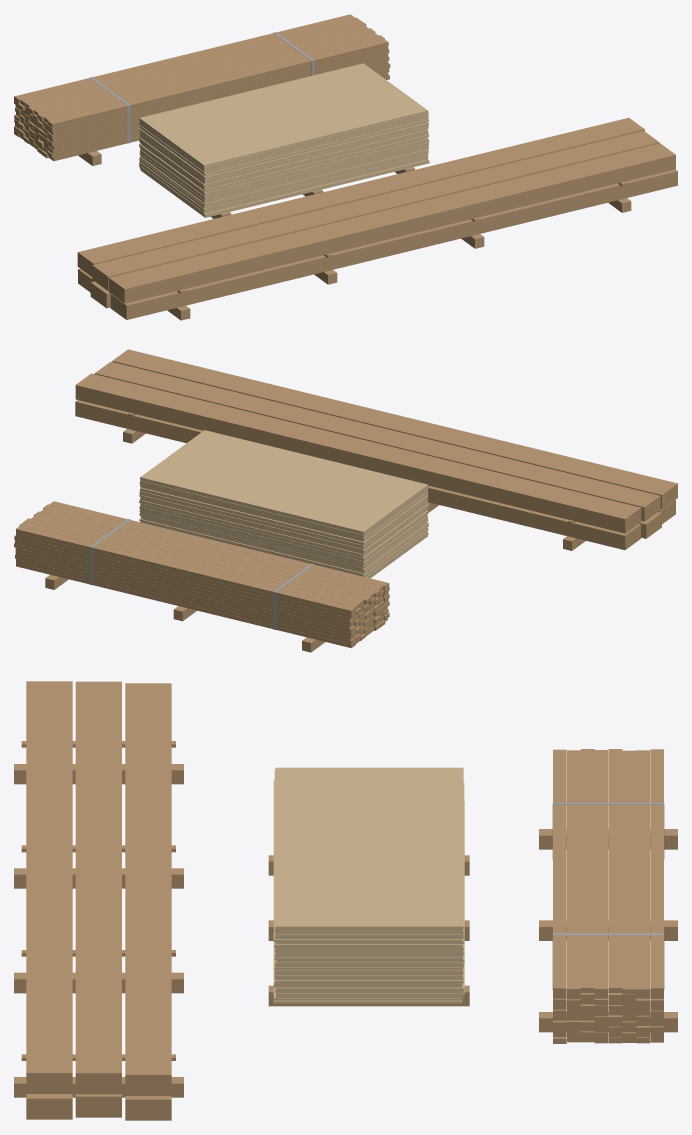
The model's file is lumber_stack.glb.
The picture shows the model from 3 angles, top to bottom: view 1: azimuth 30°, elevation 25°; view 2: azimuth 150°, elevation 25°; view 3: azimuth 270°, elevation 25°; orthographic projection. The views are drawn at different scales.
Parts seen in each view (by area): view 1: timber_beams, plywood_stack, lumber_2x4_bundle; view 2: timber_beams, plywood_stack, lumber_2x4_bundle; view 3: timber_beams, plywood_stack, lumber_2x4_bundle.
Boxes of the visible parts, <box> form: timber_beams: <box>77,117,677,320</box>; plywood_stack: <box>138,63,429,218</box>; lumber_2x4_bundle: <box>14,14,390,165</box>; timber_beams: <box>75,349,677,550</box>; plywood_stack: <box>139,430,428,578</box>; lumber_2x4_bundle: <box>14,501,389,652</box>; timber_beams: <box>14,681,183,1120</box>; plywood_stack: <box>268,767,469,1006</box>; lumber_2x4_bundle: <box>539,749,677,1043</box>.
Bounding box in the file's own units: 6.04 × 0.6458 × 4.3.
Materials: 3 (3 with a texture image).
